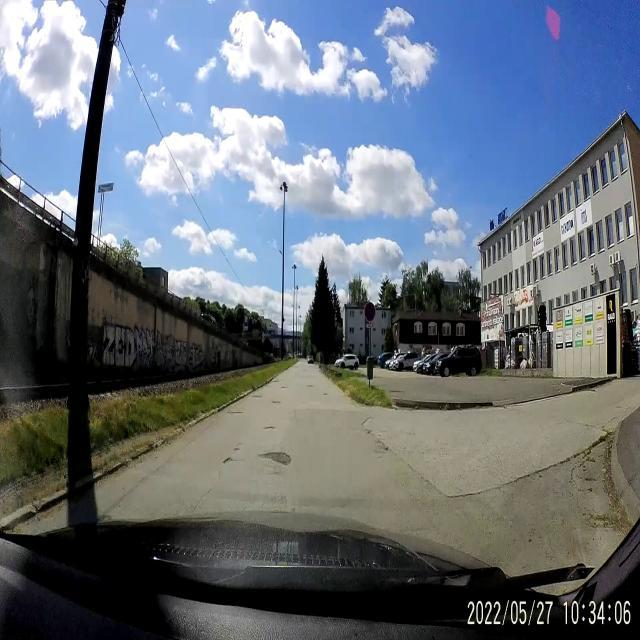Pothole: (258, 446, 294, 468), (373, 436, 389, 458), (226, 408, 244, 420), (262, 419, 276, 434), (360, 422, 373, 438), (270, 396, 282, 410), (250, 388, 262, 402), (222, 454, 233, 468), (233, 442, 239, 456), (280, 384, 290, 392), (307, 383, 315, 390), (273, 377, 280, 385), (322, 391, 329, 396)
